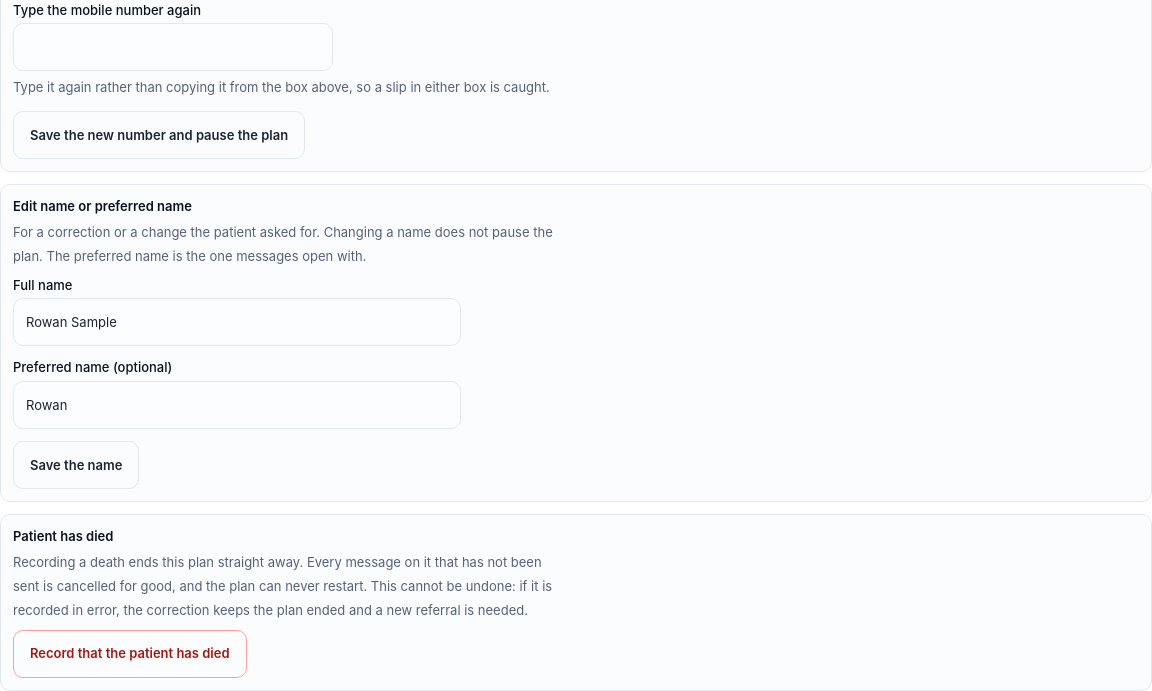
it: recording a death › cannot be confirmed until the irreversible consequence is acknowledged, and says it plainly
(page scrolled)
Click the button "Record that the patient has died". click: (130, 654)
box: [13,630,247,678]
(page scrolled)
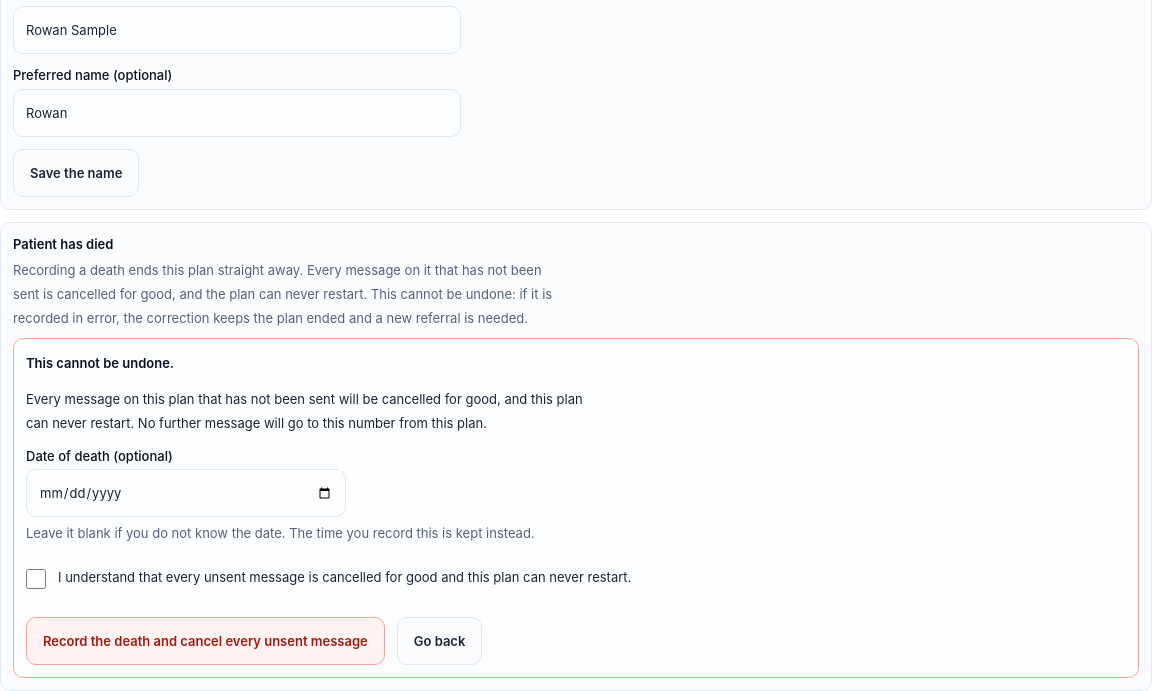
Result: the element with test id "caring-contacts-update-death-confirmation" shows "This cannot be undone." at [26,354,174,370]
Result: the element with test id "caring-contacts-update-death-confirmation" shows "will be cancelled for good" at [26,390,583,430]
Result: the element with test id "caring-contacts-update-death-confirmation" shows "this plan can never restart" at [26,390,583,430]
Click the button with test id "caring-contacts-update-death-confirm". click: (205, 641)
box: [26,617,385,665]
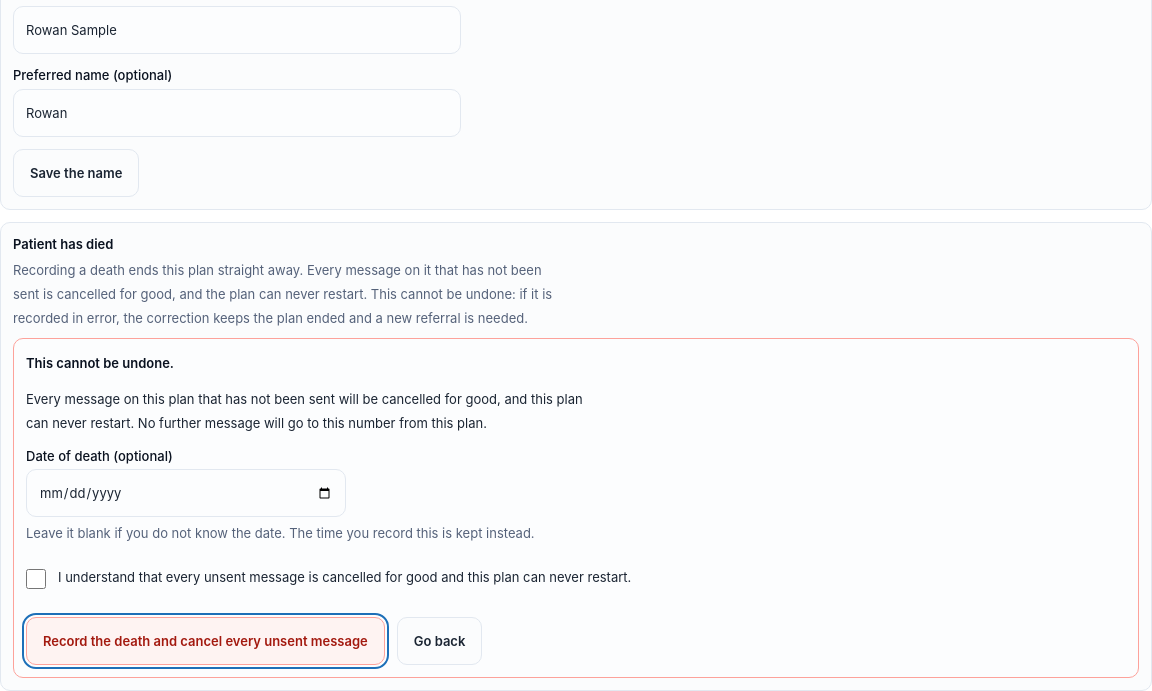
Type "2026-09-20" into the date field labelled "Date of death (optional)". click: (186, 493)
box: [26,469,346,517]
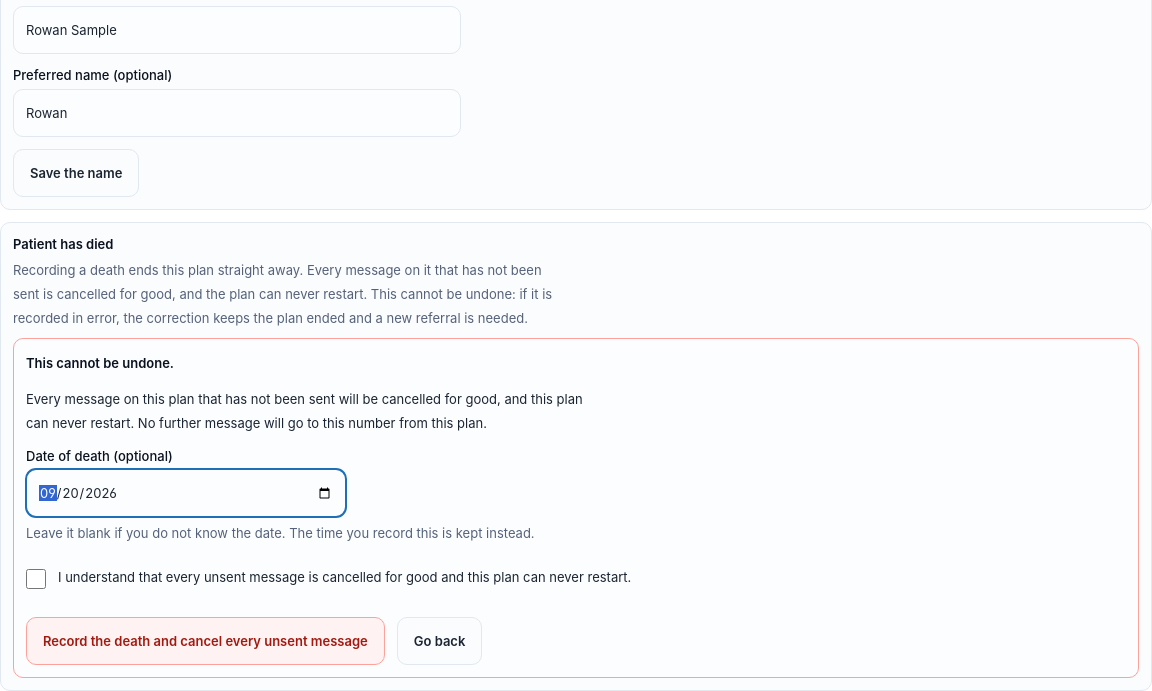
Click the checkbox with test id "caring-contacts-update-death-understood". click: (36, 579)
box: [26,569,46,589]
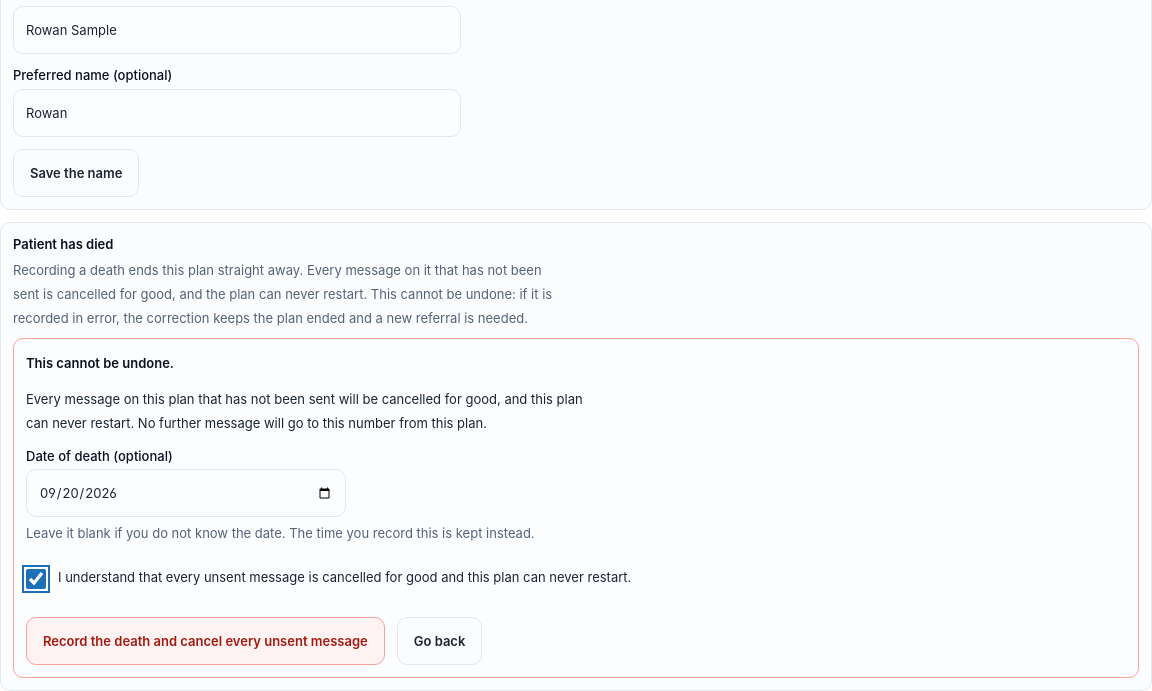
Click the button with test id "caring-contacts-update-death-confirm". click: (205, 641)
box: [26,617,385,665]
(page scrolled)
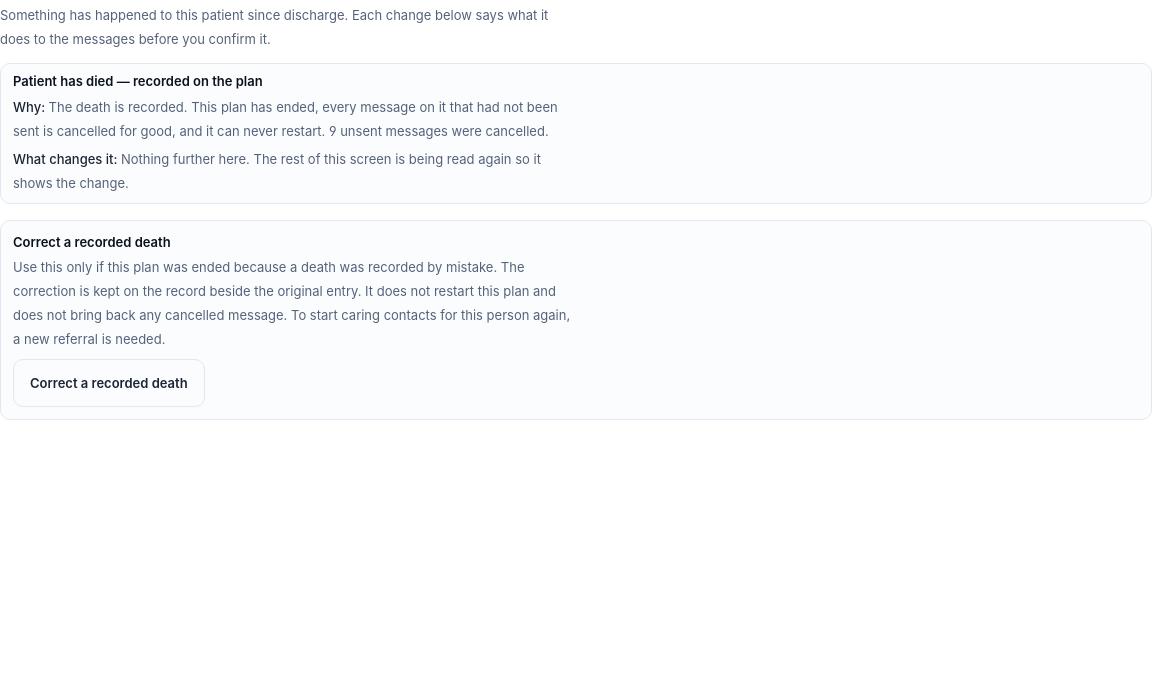
Result: the message with test id "caring-contacts-record-a-change-outcome" shows "9 unsent messages were cancelled" at [13,99,558,139]
Result: the message with test id "caring-contacts-record-a-change-outcome" shows "it can never restart" at [13,99,558,139]
Result: the button with test id "caring-contacts-update-death-correction" is shown at [13,359,205,407]
